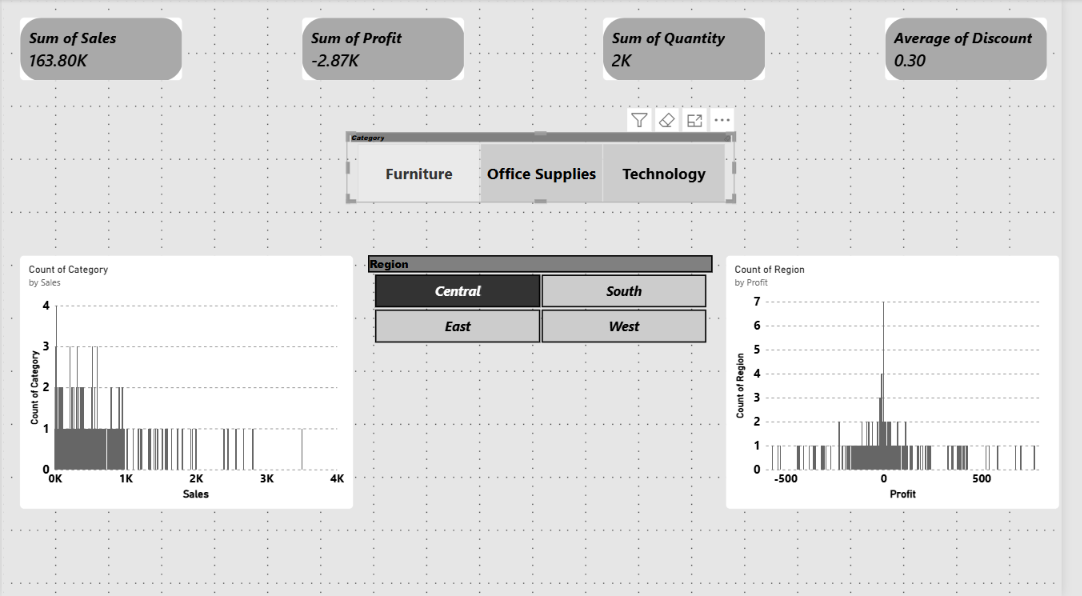

The page's visual inventory and layout, read from the dashboard file:
{"tool":"powerbi","page":{"name":"Page 1","canvas":[1920,1080],"ordinal":0},"visuals":[{"type":"cardVisual","fields":{"Data":["Sum(Sample - Superstore.Sales)"]},"box":[26,20,295,115],"z":0},{"type":"cardVisual","fields":{"Data":["Sum(Sample - Superstore.Profit)"]},"box":[544,20,295,115],"z":1000},{"type":"cardVisual","fields":{"Data":["Sum(Sample - Superstore.Quantity)"]},"box":[1088,20,295,115],"z":2000},{"type":"cardVisual","fields":{"Data":["Avg(Sample - Superstore.Discount)"]},"box":[1600,16,295,115],"z":3000},{"type":"slicer","fields":{"Values":["Sample - Superstore.Region"]},"box":[656,496,640,160],"z":3001},{"type":"slicer","fields":{"Values":["Sample - Superstore.Category"]},"box":[624,208,704,128],"z":3002},{"type":"columnChart","fields":{"Category":["Sample - Superstore.Sales"],"Y":["CountNonNull(Sample - Superstore.Category)"]},"box":[32,352,605,460],"z":3003},{"type":"columnChart","fields":{"Category":["Sample - Superstore.Profit"],"Y":["CountNonNull(Sample - Superstore.Region)"]},"box":[1312,352,605,460],"z":3004}]}

Visuals, with their boxes in screenshot pixels (x1, y1, x2, y2), scaled from the page's 1920x1080 canvas onto the 1082x596 screenshot:
cardVisual - Sum(Sample - Superstore.Sales): 15/11/181/74
cardVisual - Sum(Sample - Superstore.Profit): 307/11/473/74
cardVisual - Sum(Sample - Superstore.Quantity): 613/11/779/74
cardVisual - Avg(Sample - Superstore.Discount): 902/9/1068/72
slicer - Sample - Superstore.Region: 370/274/730/362
slicer - Sample - Superstore.Category: 352/115/748/185
columnChart - Sample - Superstore.Sales x CountNonNull(Sample - Superstore.Category): 18/194/359/448
columnChart - Sample - Superstore.Profit x CountNonNull(Sample - Superstore.Region): 739/194/1080/448
